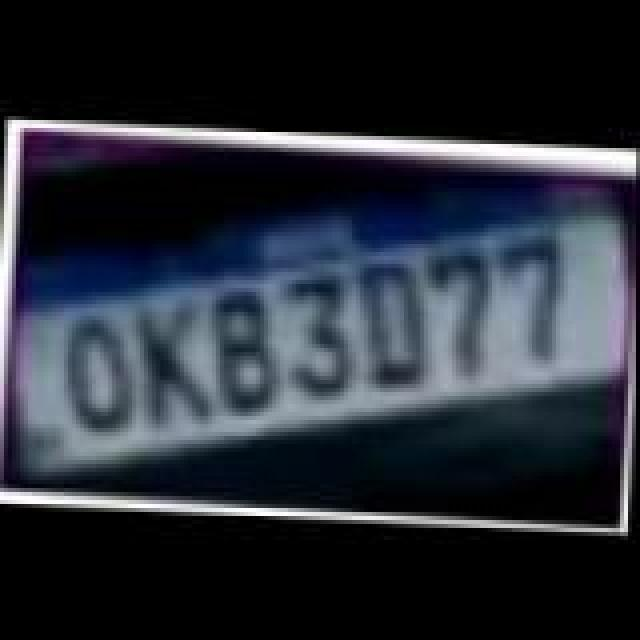3: (278, 272, 362, 400)
7: (420, 246, 500, 378), (496, 234, 572, 362)
B: (208, 288, 284, 416)
D: (350, 260, 434, 392)
K: (128, 298, 212, 430)
O: (58, 318, 138, 438)
